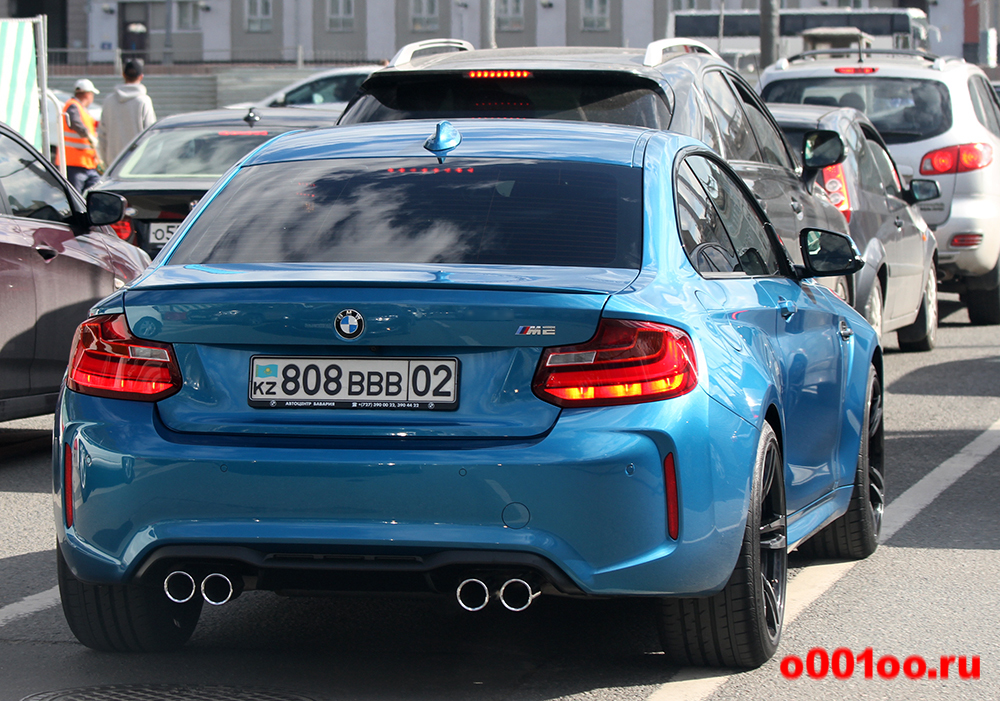license_plate: (253, 358, 456, 402)
